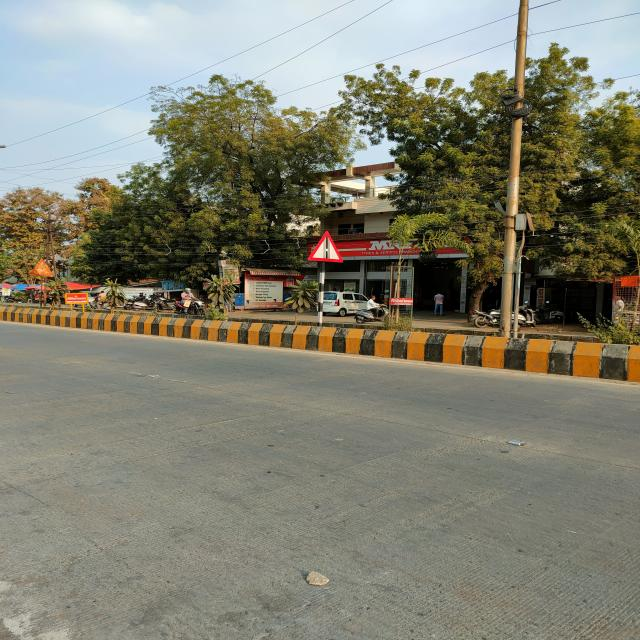ferry: (307, 229, 344, 263)
